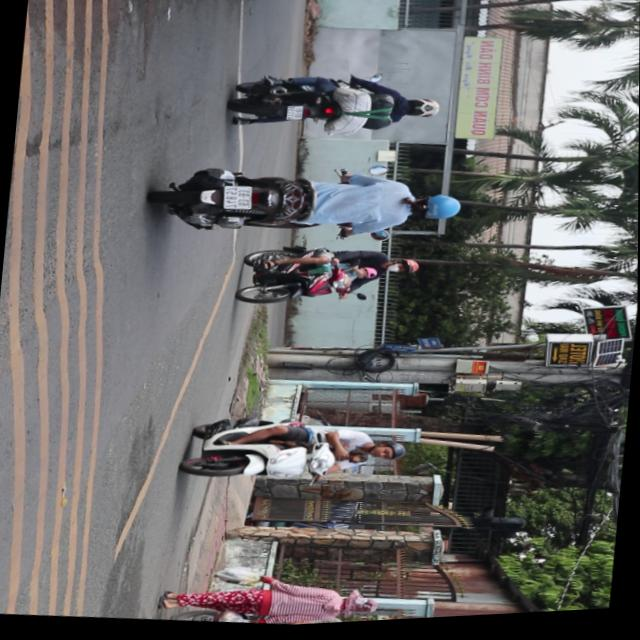helmet: (410, 196, 463, 230), (406, 101, 442, 126), (369, 445, 408, 467), (387, 262, 420, 282)
licenseplate: (147, 152, 467, 262), (176, 406, 412, 503), (226, 65, 444, 150), (230, 238, 423, 323)
nohelmet: (223, 188, 253, 213), (286, 109, 304, 124)
